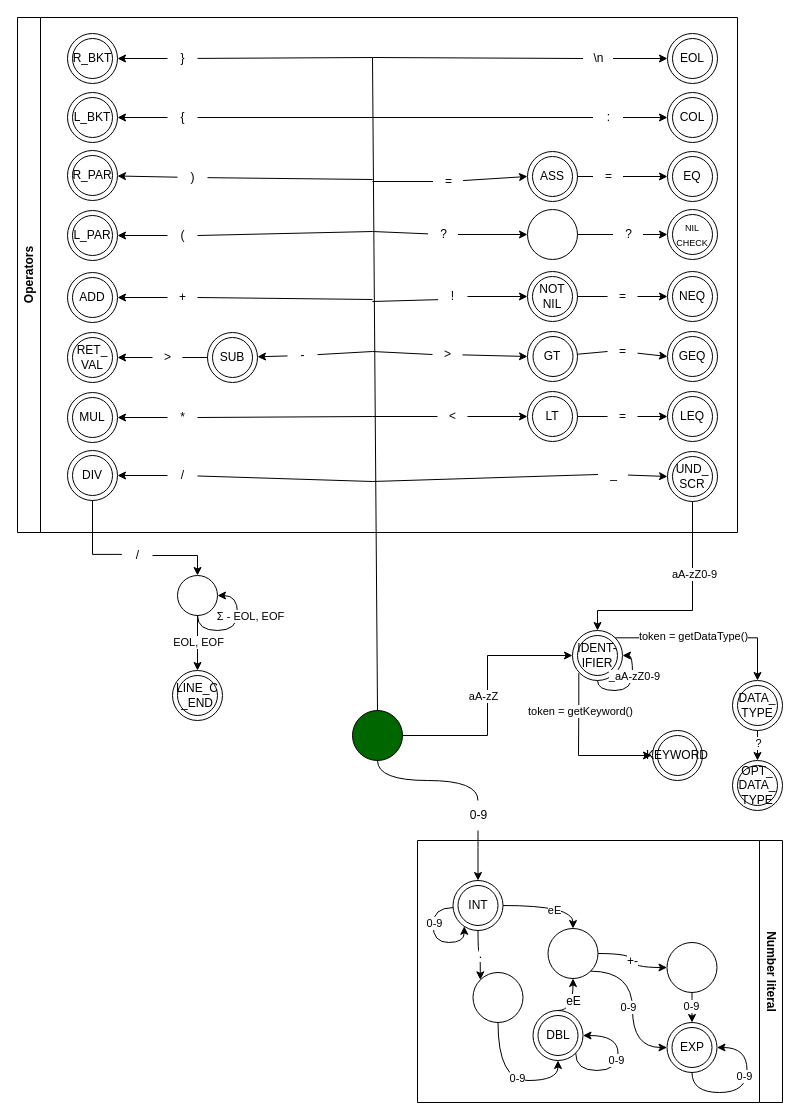
This 800x1120 diagram has some shape labels left out. Each missing label, with the centre of its shape:
"DBL S" goes at pixel 497 997.
"EXP S" goes at pixel 572 953.
"EXP SIGN" goes at pixel 691 967.
"LINE_C" goes at pixel 197 595.
"QM" goes at pixel 552 234.
"START" goes at pixel 377 735.
